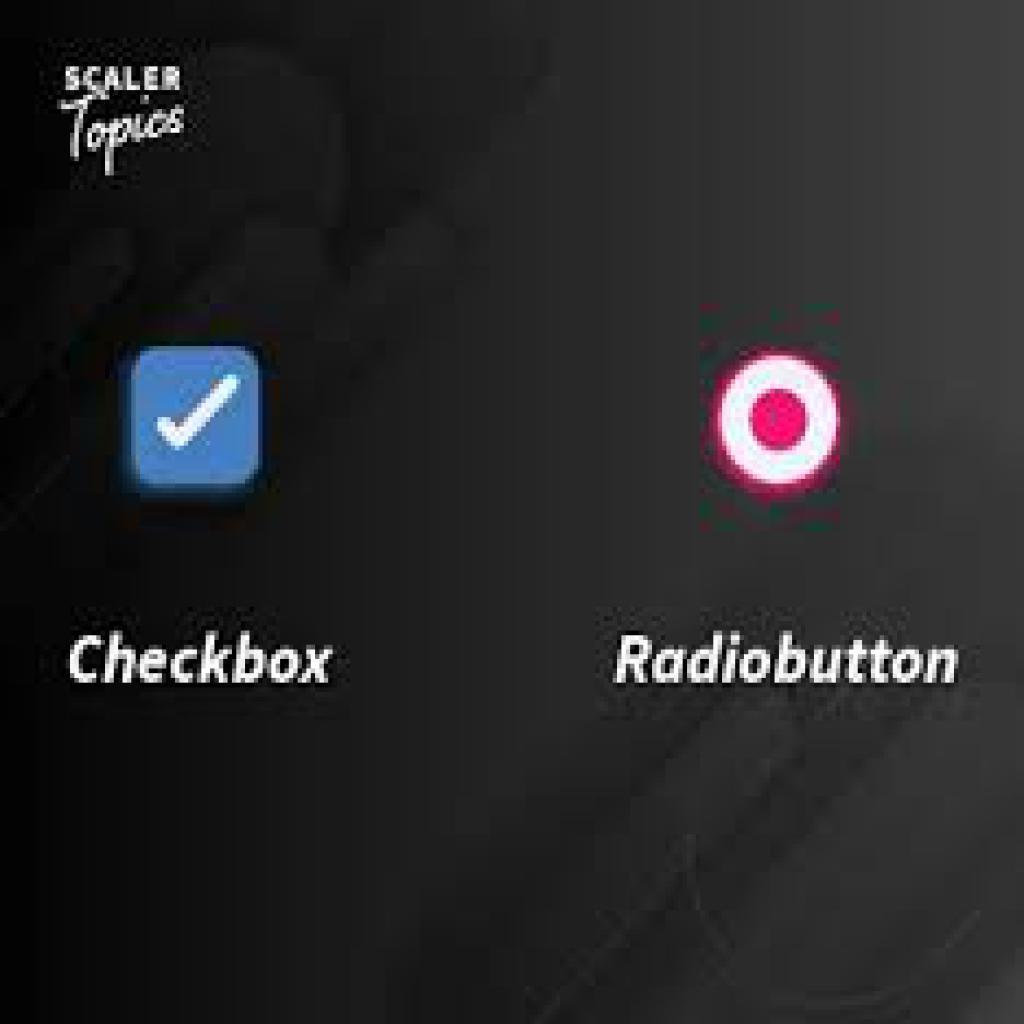checkbox: (711, 346, 846, 509), (126, 346, 265, 495)
